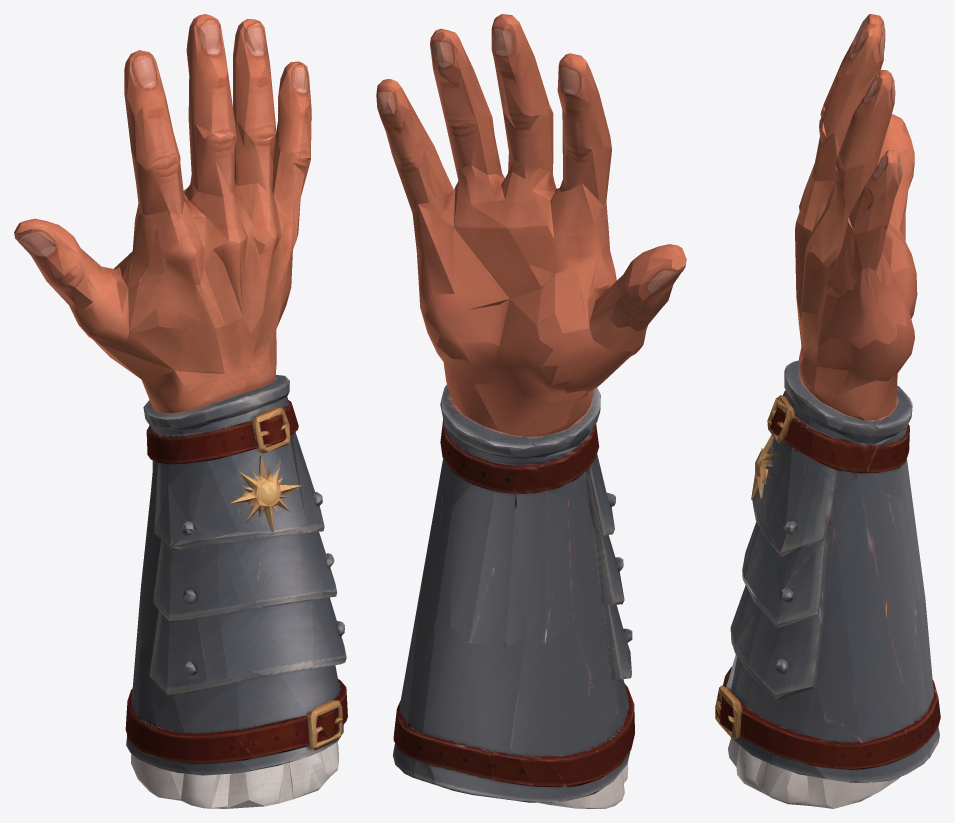
The model's file is zealot-meshy-512.glb.
3 renders of one model, left to right at view 1: azimuth 30°, elevation 25°; view 2: azimuth 150°, elevation 25°; view 3: azimuth 270°, elevation 25°, orthographic. The views are drawn at different scales.
Parts seen in each view (by area): view 1: Mesh_0; view 2: Mesh_0; view 3: Mesh_0.
Boxes of the visible parts, x1=… form: Mesh_0: x1=14, y1=14, x2=347, y2=808; Mesh_0: x1=376, y1=14, x2=686, y2=808; Mesh_0: x1=715, y1=14, x2=940, y2=808.
Size of the model in its own units: 0.779 by 1.9 by 0.5279.
Materials: 1 (1 with a texture image).
